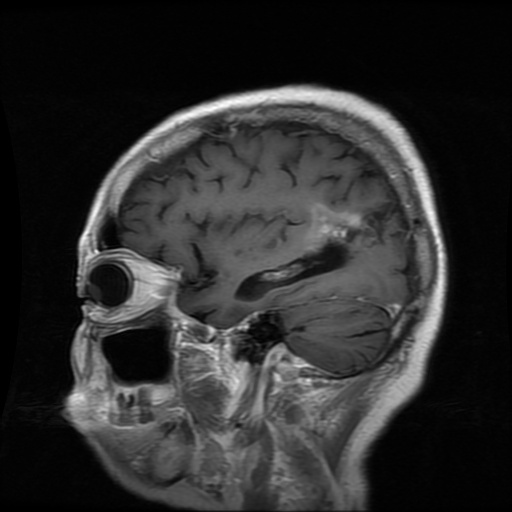glioma: (235, 203, 366, 300)
